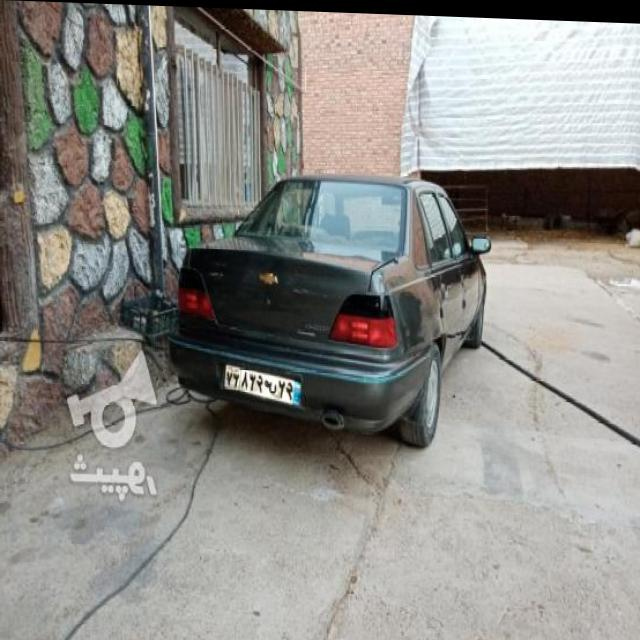licence: (225, 357, 304, 404)
